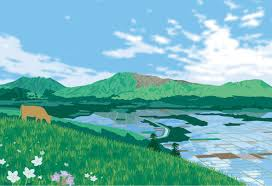field: (12, 108, 266, 183)
mountain: (8, 68, 270, 107)
sky: (3, 2, 271, 83)
